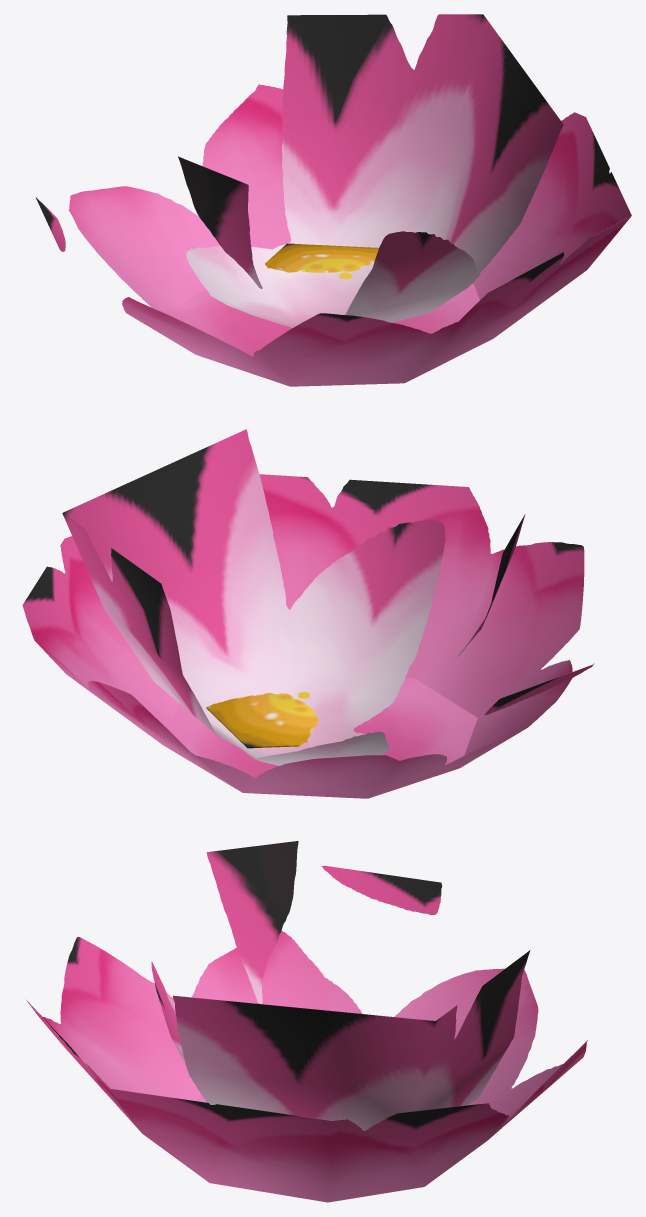
File: Mesh_Gu_Lotus_01.FBX
The picture shows the model from 3 angles, top to bottom: view 1: azimuth 30°, elevation 25°; view 2: azimuth 150°, elevation 25°; view 3: azimuth 270°, elevation 25°; orthographic projection.
Visible parts, largest first — view 1: Object003; view 2: Object003; view 3: Object003.
Part boxes in pixels (bbox=[...]): Object003: bbox=[36, 14, 631, 386]; Object003: bbox=[22, 429, 594, 798]; Object003: bbox=[26, 841, 587, 1202].
Size of the model in its own units: 60.58 by 61.99 by 25.74.
